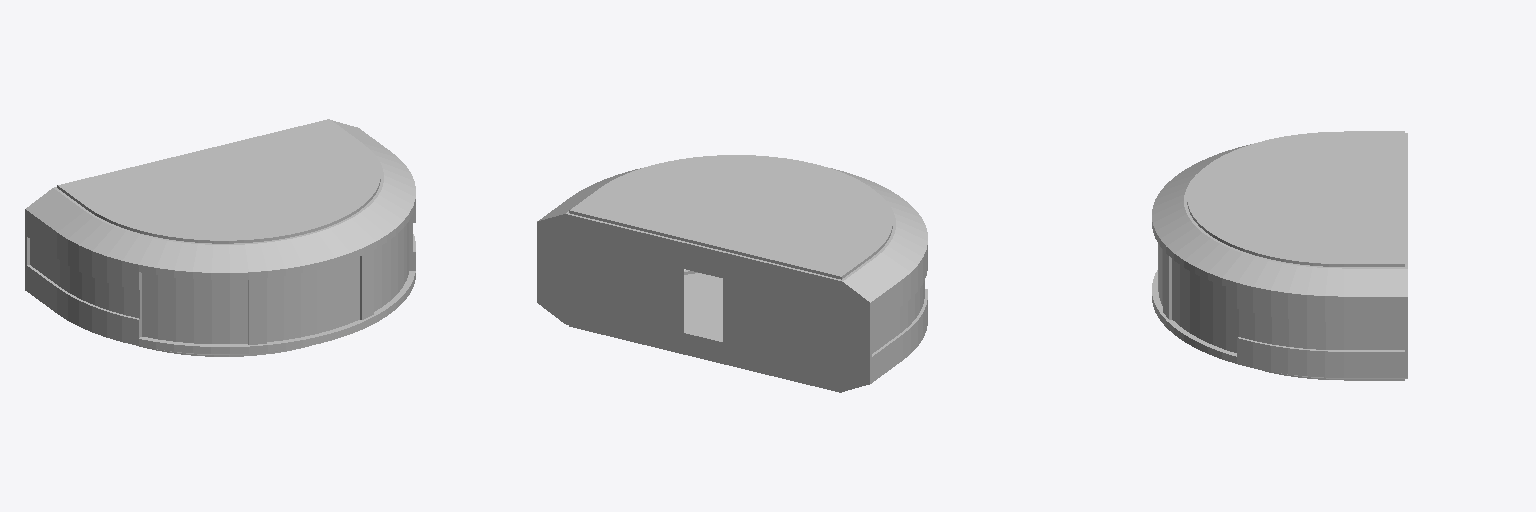
Rendered from RoundBridge.obj.
3 views of the same model, side by side, from view 1: azimuth 30°, elevation 25°; view 2: azimuth 150°, elevation 25°; view 3: azimuth 270°, elevation 25° (orthographic).
Visible parts, largest first — view 1: Bridge_Outside_Plane; view 2: Bridge_Outside_Plane; view 3: Bridge_Outside_Plane.
Part boxes in pixels (left/top/right/bottom): Bridge_Outside_Plane: left=25, top=119, right=415, bottom=356; Bridge_Outside_Plane: left=537, top=155, right=927, bottom=392; Bridge_Outside_Plane: left=1152, top=131, right=1407, bottom=380.
Size of the model in its own units: 12 by 4 by 8.